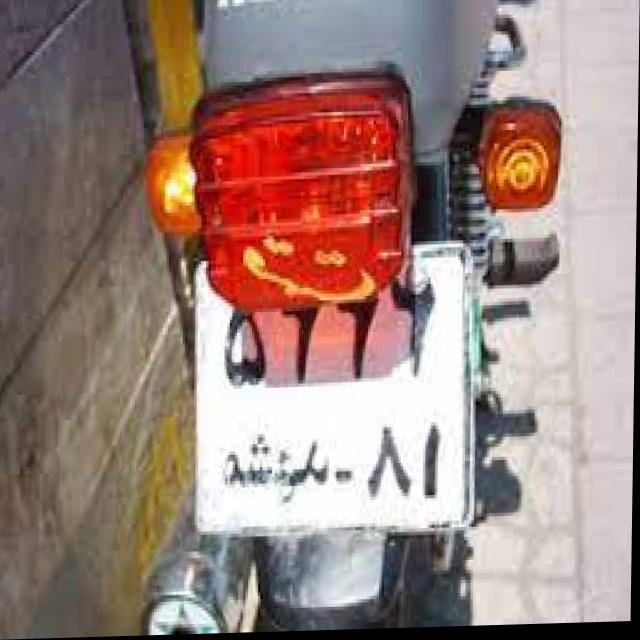licence: (196, 249, 483, 530)
